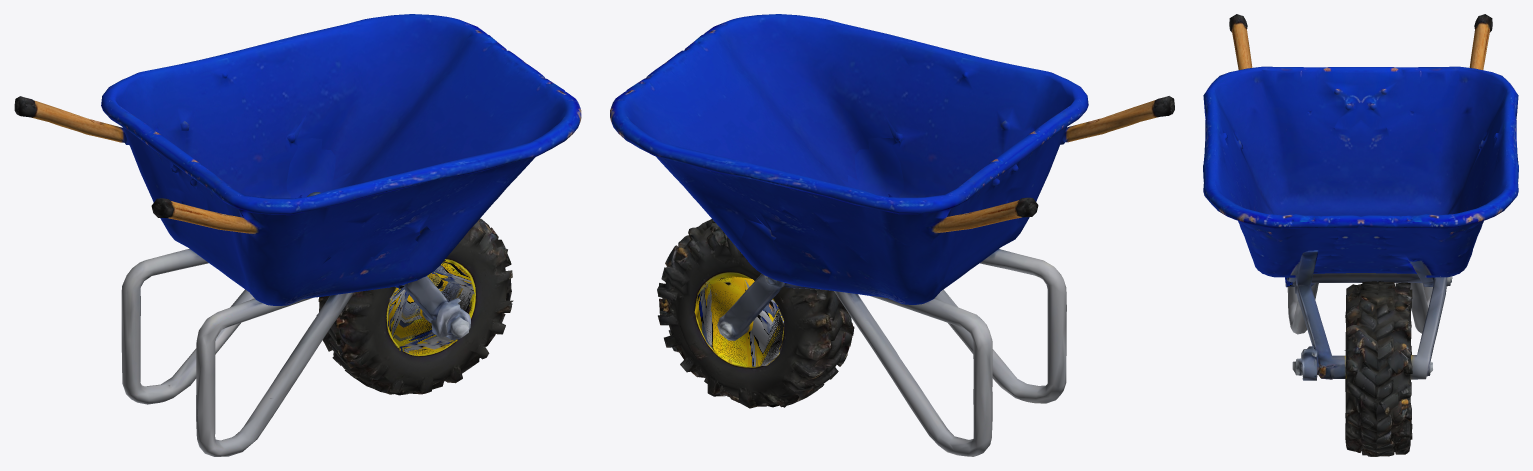
The model's file is el_arabasi.glb.
The picture shows the model from 3 angles, left to right: view 1: azimuth 30°, elevation 25°; view 2: azimuth 150°, elevation 25°; view 3: azimuth 270°, elevation 25°; orthographic projection. The views are drawn at different scales.
Visible parts, largest first — view 1: body, frame, wheel; view 2: body, frame, wheel; view 3: body, wheel, frame.
Boxes of the visible parts, x1,y1,x2,y2 form: body: [14, 14, 581, 305]; frame: [121, 192, 474, 456]; wheel: [316, 218, 513, 395]; body: [610, 14, 1174, 304]; frame: [694, 249, 1066, 456]; wheel: [657, 219, 854, 408]; body: [1203, 14, 1518, 287]; wheel: [1344, 281, 1412, 456]; frame: [1287, 250, 1452, 380].
Size of the model in its own units: 1.08 by 0.7628 by 0.7531.
3 materials, 3 textured.
